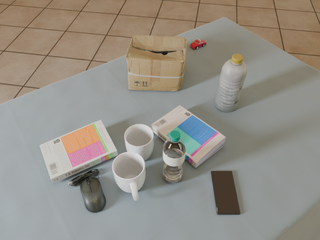book: (40, 120, 118, 183), (151, 105, 225, 168)
bottle: (215, 54, 247, 112), (163, 131, 186, 183)
box: (126, 35, 188, 91)
cup: (112, 152, 145, 201), (125, 124, 154, 161)
mouse: (68, 169, 106, 213)
phone: (211, 171, 240, 215)
toy_car: (190, 38, 206, 49)
